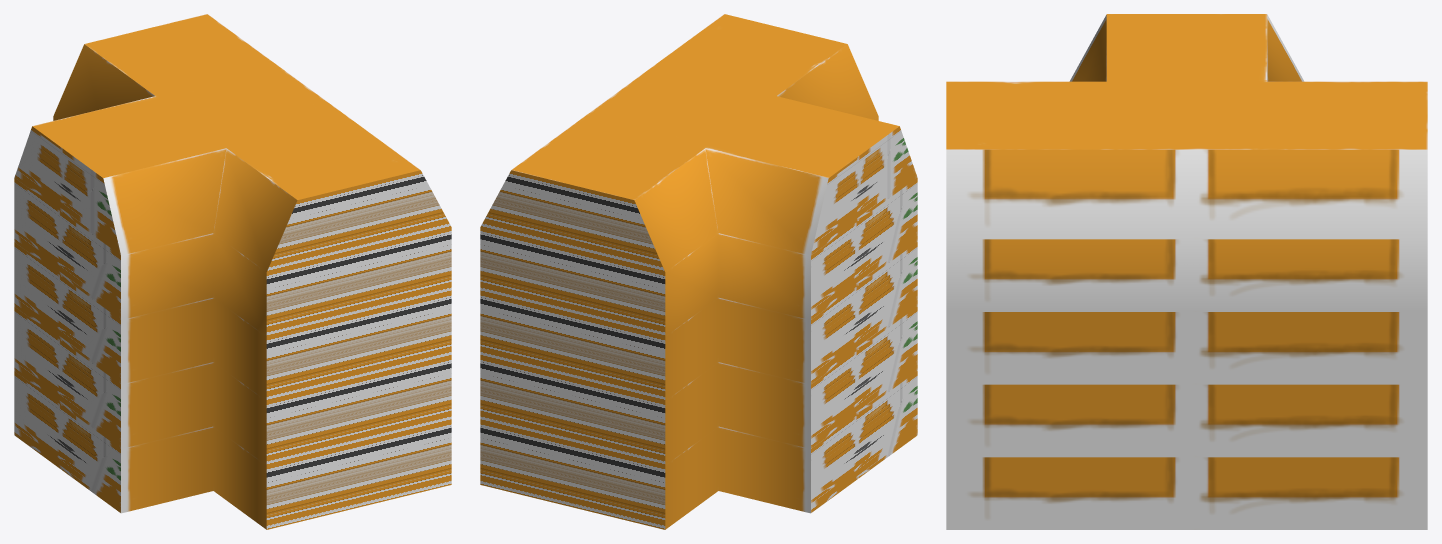
The model's file is platform_crossing_t.FBX.
The picture shows the model from 3 angles, left to right: view 1: azimuth 30°, elevation 25°; view 2: azimuth 150°, elevation 25°; view 3: azimuth 270°, elevation 25°; orthographic projection. The views are drawn at different scales.
Visible parts, largest first — view 1: kruising001; view 2: kruising001; view 3: kruising001.
Boxes of the visible parts, bbox=[...] form: kruising001: bbox=[14, 14, 451, 529]; kruising001: bbox=[480, 14, 917, 529]; kruising001: bbox=[946, 14, 1427, 529].
Bounding box in the file's own units: 225 × 250 × 300.
